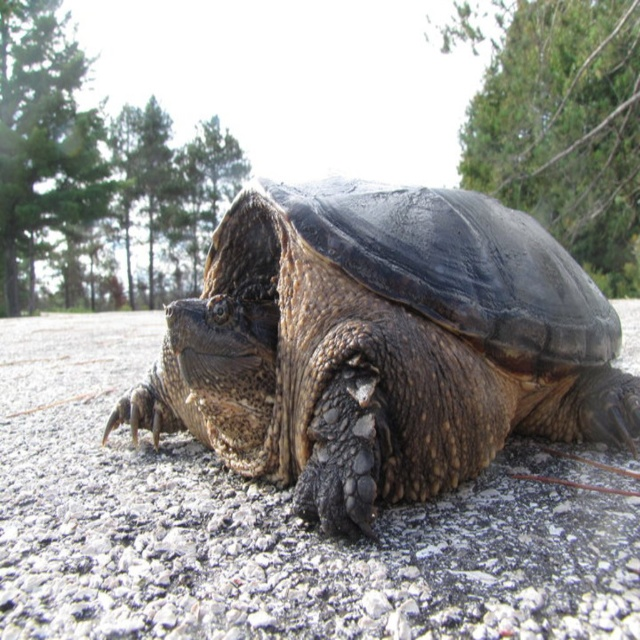Tortoise: (102, 173, 640, 543)
